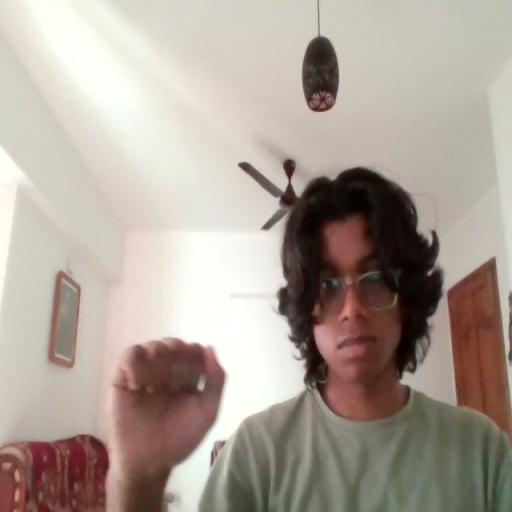Rock: (109, 332, 225, 467)
